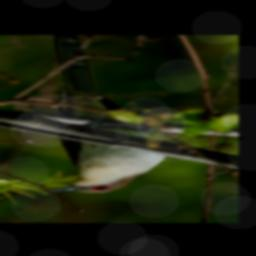Cuckoo: (44, 35, 171, 194)
